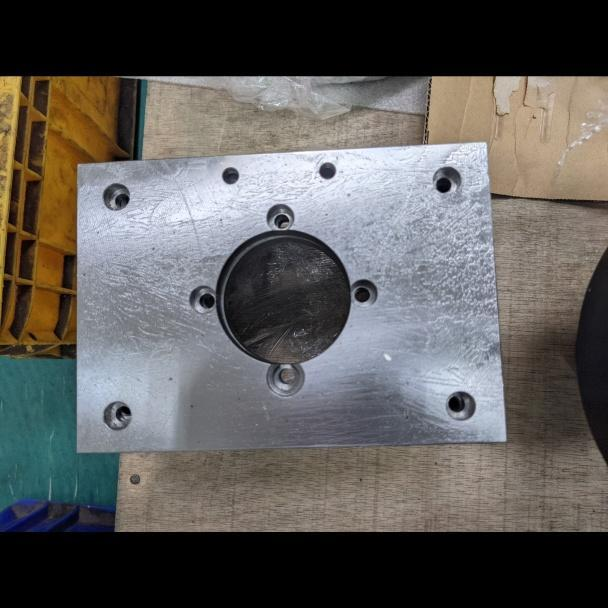hole: (261, 354, 308, 403), (97, 392, 136, 438), (185, 281, 226, 320), (429, 158, 467, 200), (257, 197, 300, 234), (343, 272, 384, 310), (440, 385, 479, 424), (98, 176, 132, 214), (313, 154, 341, 185), (216, 161, 242, 190)
